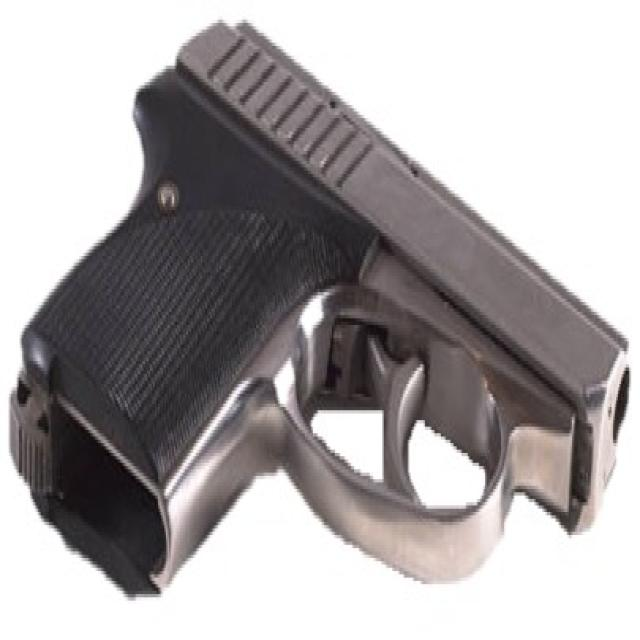pistol: (1, 4, 640, 640)
